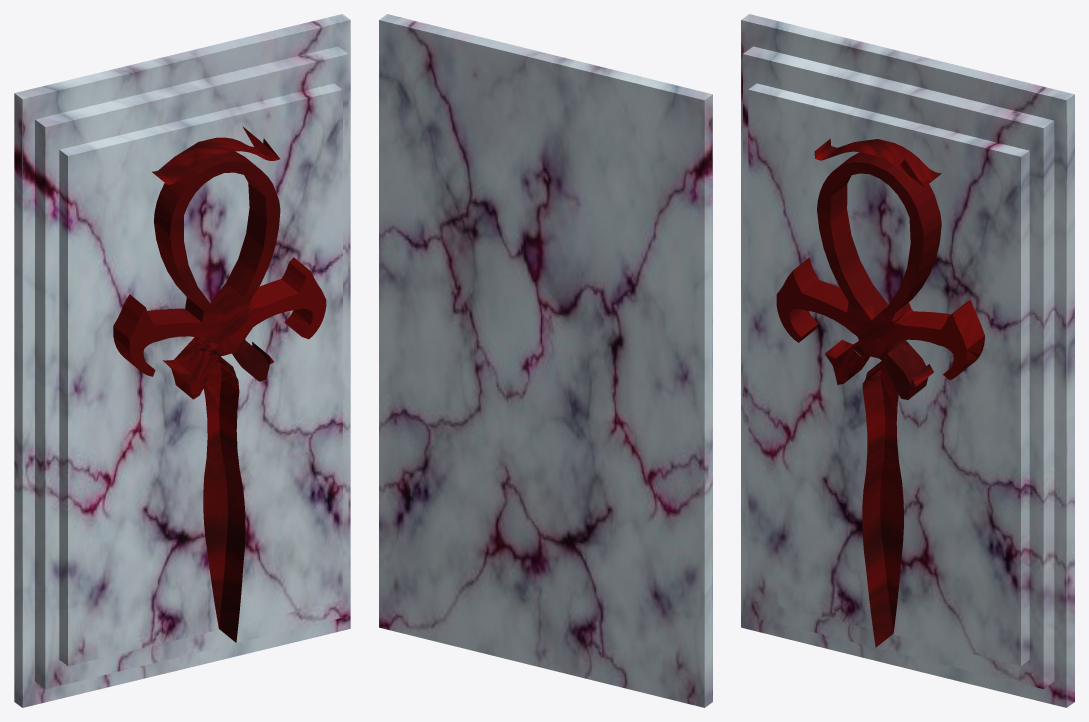
The model's file is Couvercle.obj.
The picture shows the model from 3 angles, left to right: view 1: azimuth 30°, elevation 25°; view 2: azimuth 150°, elevation 25°; view 3: azimuth 330°, elevation 25°; orthographic projection.
Visible parts, largest first — view 1: Cube.001_Cube.001_Top.001, Mesh74_Group_3_Vampire_Cross_dwg1_Model.001; view 2: Cube.001_Cube.001_Top.001; view 3: Cube.001_Cube.001_Top.001, Mesh74_Group_3_Vampire_Cross_dwg1_Model.001.
Part boxes in pixels (<box>): Cube.001_Cube.001_Top.001: <box>14,14,350,707</box>; Mesh74_Group_3_Vampire_Cross_dwg1_Model.001: <box>113,127,326,642</box>; Cube.001_Cube.001_Top.001: <box>379,14,712,707</box>; Cube.001_Cube.001_Top.001: <box>741,14,1074,707</box>; Mesh74_Group_3_Vampire_Cross_dwg1_Model.001: <box>776,139,984,647</box>.
Bounding box in the file's own units: 180 × 320 × 45.5.
